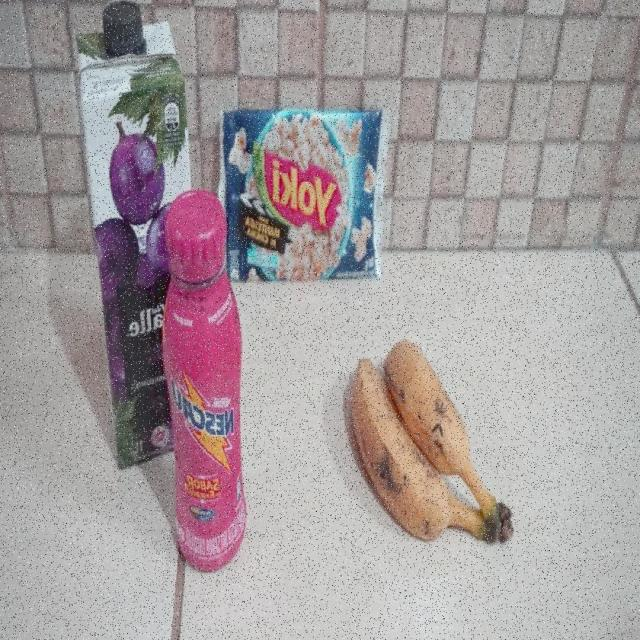Banana: (348, 337, 514, 547)
ChocolateMilk: (162, 191, 246, 572)
Popcorn: (217, 104, 389, 289)
